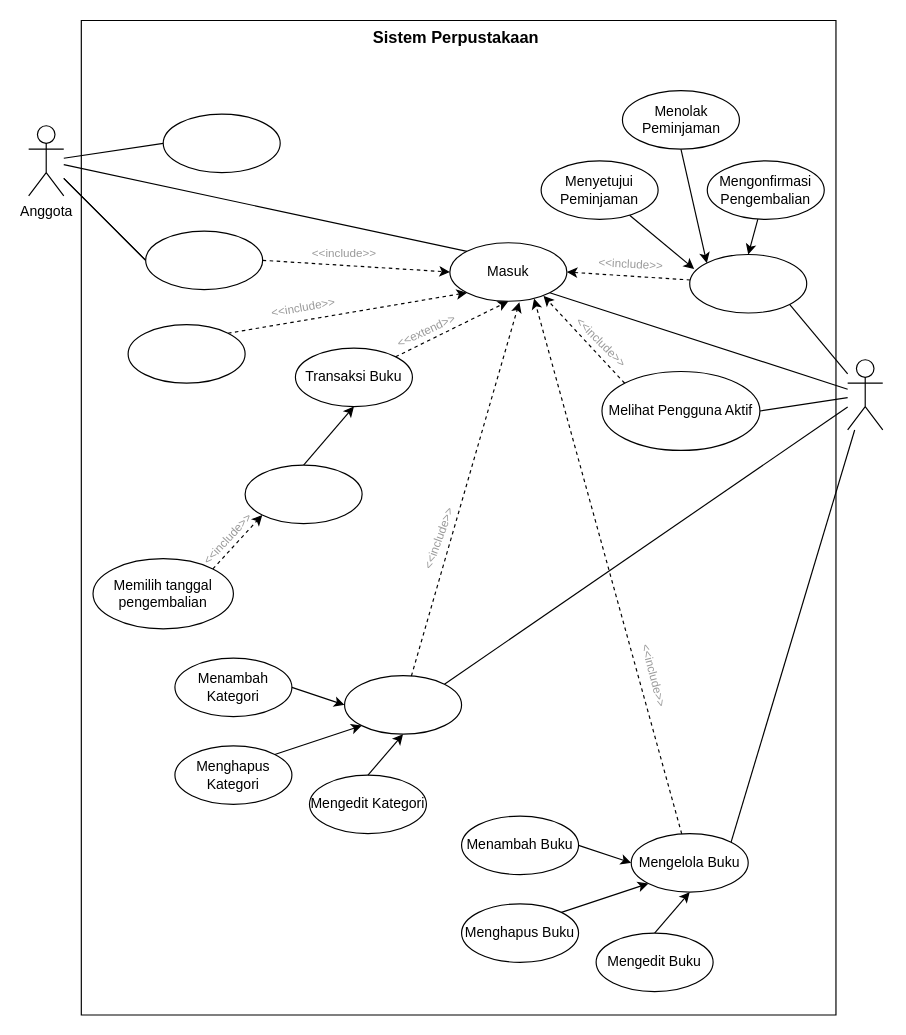
This 906x1035 diagram has some shape labels left out. Here are the shapes that lost their labels. From the top down, the centre of each, then its label:
At pixel 221 143: "Daftar Akun".
At pixel 203 260: "Melihat Daftar Buku".
At pixel 748 283: "Mengelola Transaksi Buku".
At pixel 186 353: "Melihat Dashboard".
At pixel 864 394: "Admin".
At pixel 303 494: "Mengajukan Peminjaman".
At pixel 402 704: "Mengelola Kategori".
